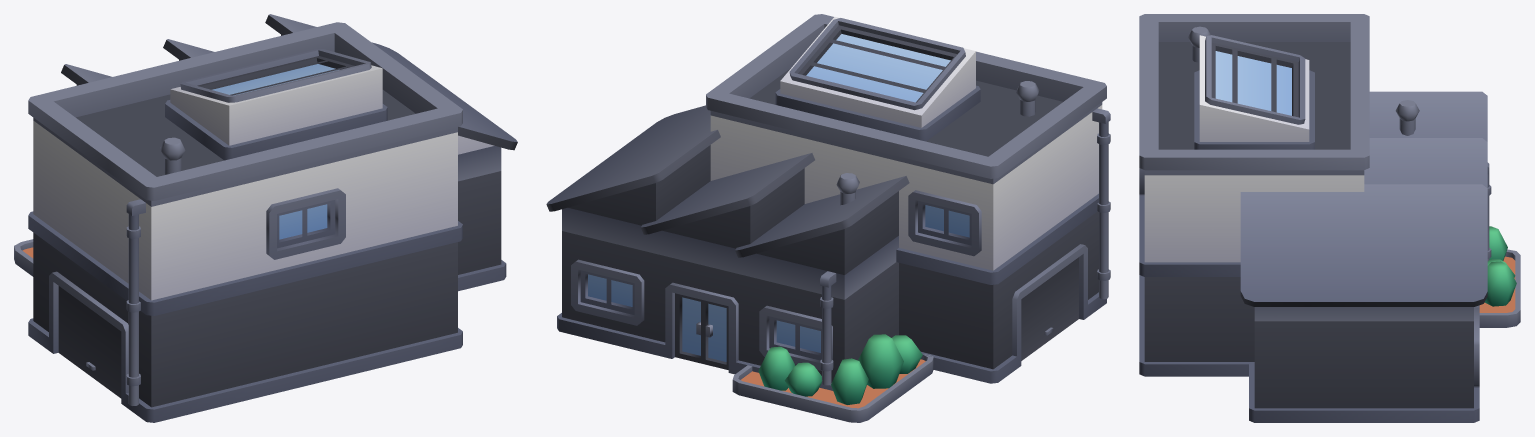
The model's file is building-t.fbx.
3 views of the same model, side by side, from view 1: azimuth 30°, elevation 25°; view 2: azimuth 150°, elevation 25°; view 3: azimuth 270°, elevation 25° (orthographic). The views are drawn at different scales.
Visible parts, largest first — view 1: building-t; view 2: building-t; view 3: building-t.
Part boxes in pixels (x1=…): building-t: x1=14, y1=14, x2=517, y2=422; building-t: x1=546, y1=14, x2=1110, y2=422; building-t: x1=1139, y1=14, x2=1520, y2=422.
Size of the model in its own units: 172 by 101 by 139.
Materials: 1 (1 with a texture image).
